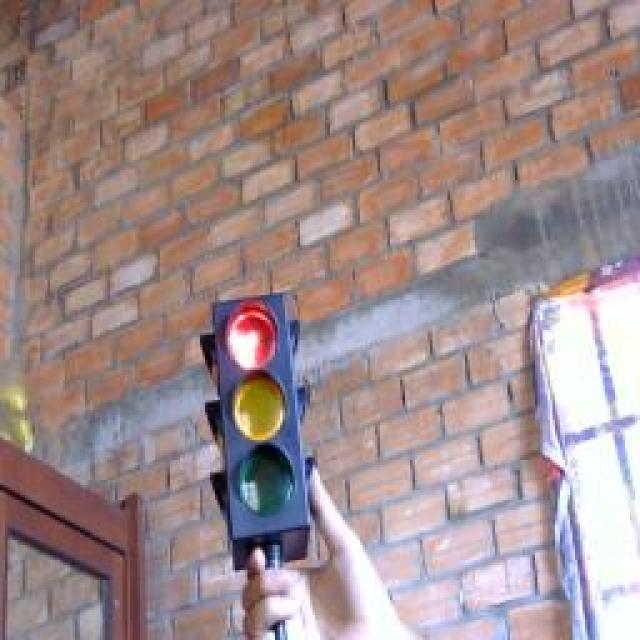-: (217, 299, 287, 369)
